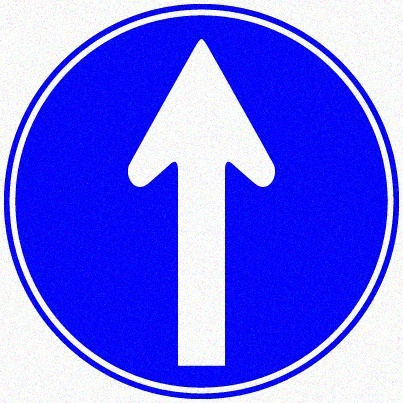Direction_sign: (2, 2, 400, 399)
